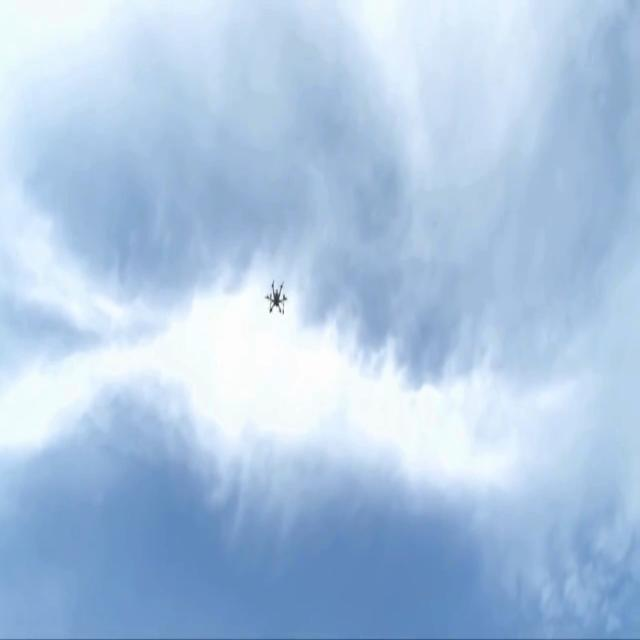drone: (264, 279, 287, 315)
